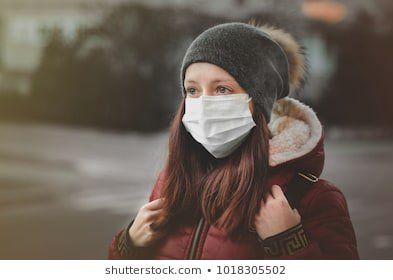mask: (168, 21, 294, 163)
